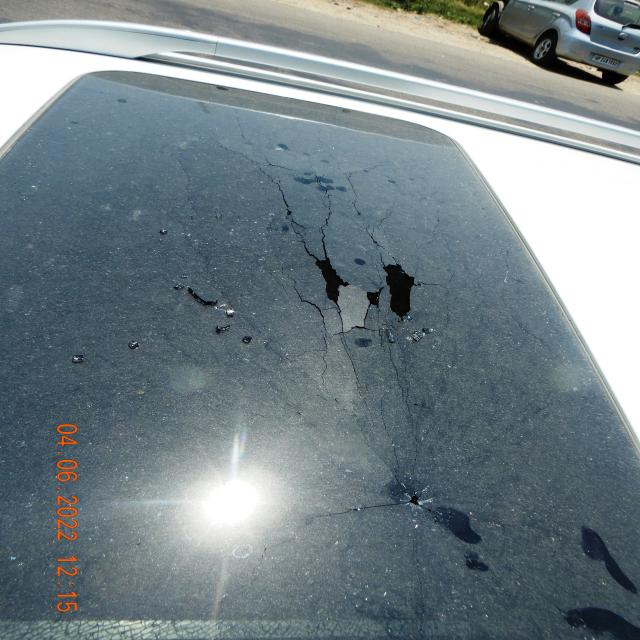damage: (147, 142, 466, 358), (330, 465, 464, 545)
